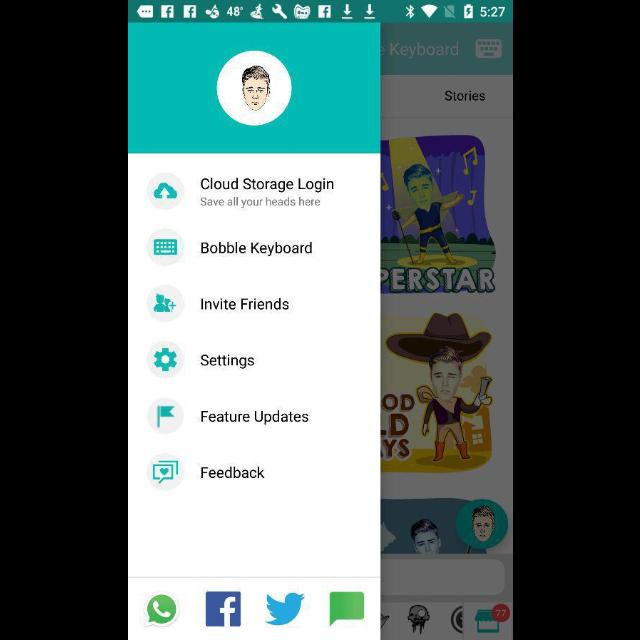icon: (146, 452, 184, 492), (146, 340, 184, 378), (146, 172, 184, 210), (264, 592, 306, 626), (205, 592, 241, 626), (329, 592, 363, 626)
image: (216, 51, 292, 127), (144, 284, 183, 324), (146, 228, 184, 266), (142, 590, 178, 628), (146, 398, 184, 434)
panel: (128, 24, 380, 640)
text: (198, 176, 334, 194), (200, 240, 312, 258), (200, 410, 308, 426), (199, 197, 319, 209), (200, 297, 288, 311), (200, 354, 254, 371), (200, 466, 264, 480)
uppertaskbar: (128, 1, 512, 23)
